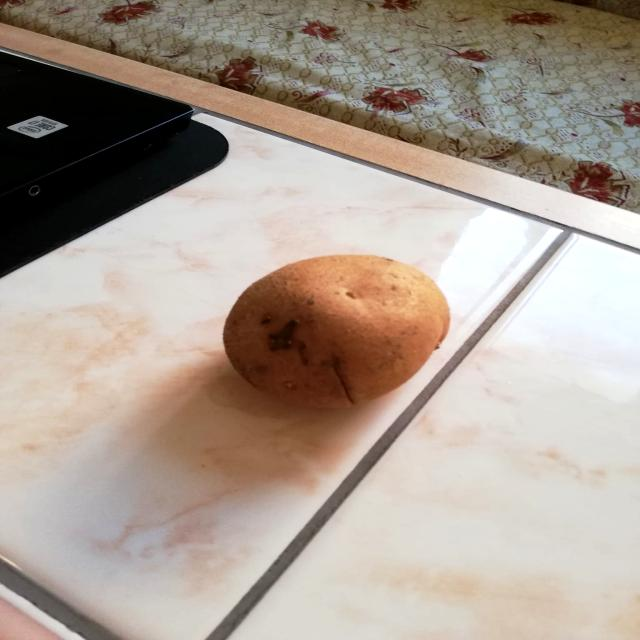potato: (212, 242, 470, 416)
